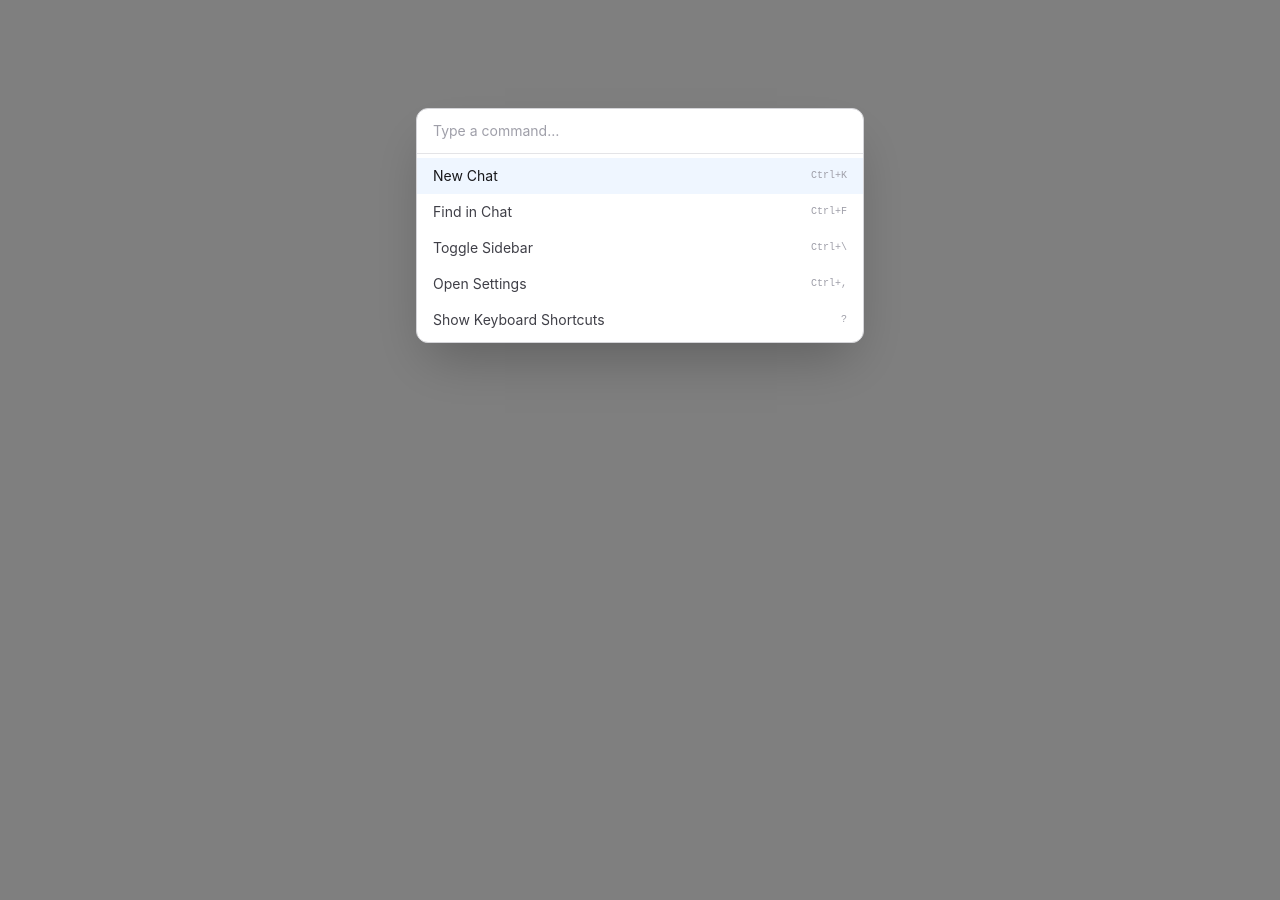
Test: CommandPalette component (#251) › filters the list as the user types
Type "settings" into the field named "Command palette search" at (640, 132), box [417,109,863,154]
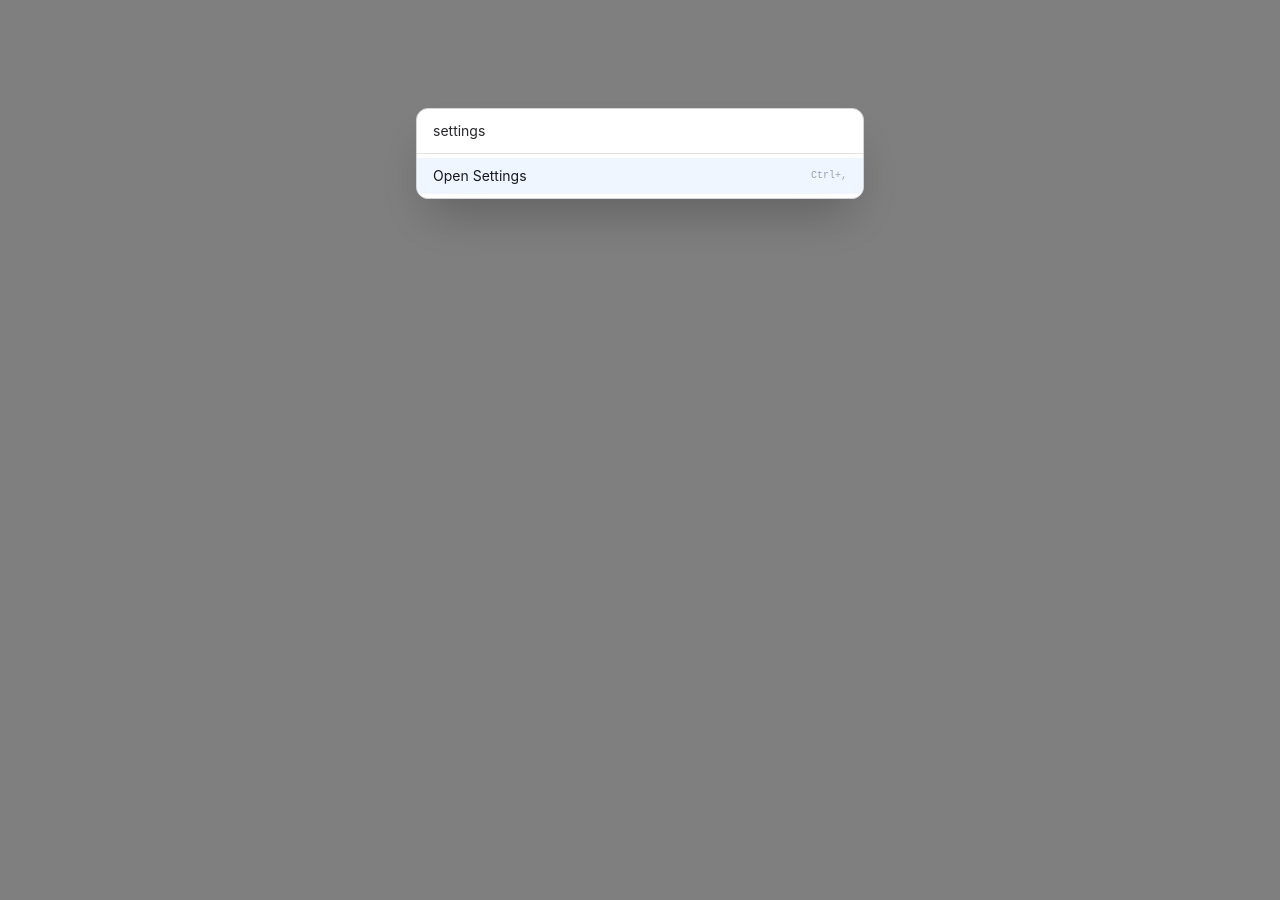
Expected: the text "Open Settings" is shown, [433,166,527,186]
Now the button "New Chat" is gone
